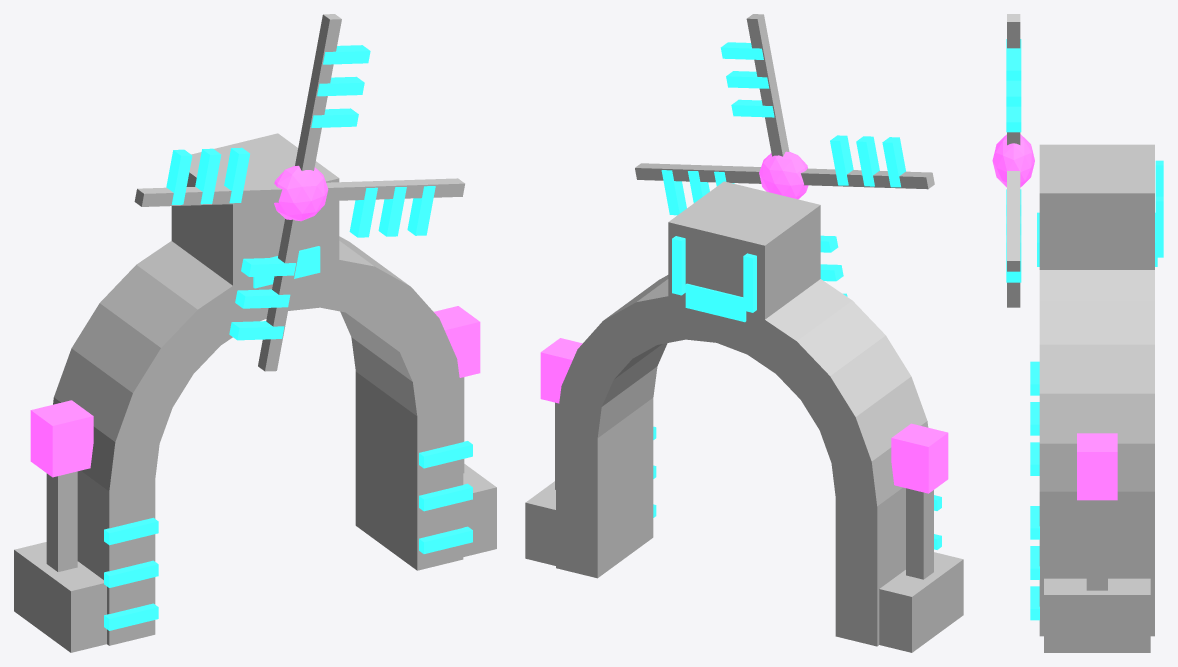
3 views of the same model, side by side, from view 1: azimuth 30°, elevation 25°; view 2: azimuth 150°, elevation 25°; view 3: azimuth 270°, elevation 25° (orthographic). The views are drawn at different scales.
Parts seen in each view (by area): view 1: Neon_WindmillGate_Showcase; view 2: Neon_WindmillGate_Showcase; view 3: Neon_WindmillGate_Showcase.
Boxes of the visible parts, box(x1,y1,x2,y2) form: Neon_WindmillGate_Showcase: box(14, 14, 496, 652); Neon_WindmillGate_Showcase: box(525, 14, 963, 652); Neon_WindmillGate_Showcase: box(992, 14, 1163, 652).
Size of the model in its own units: 2.61 by 3.44 by 0.9625.
